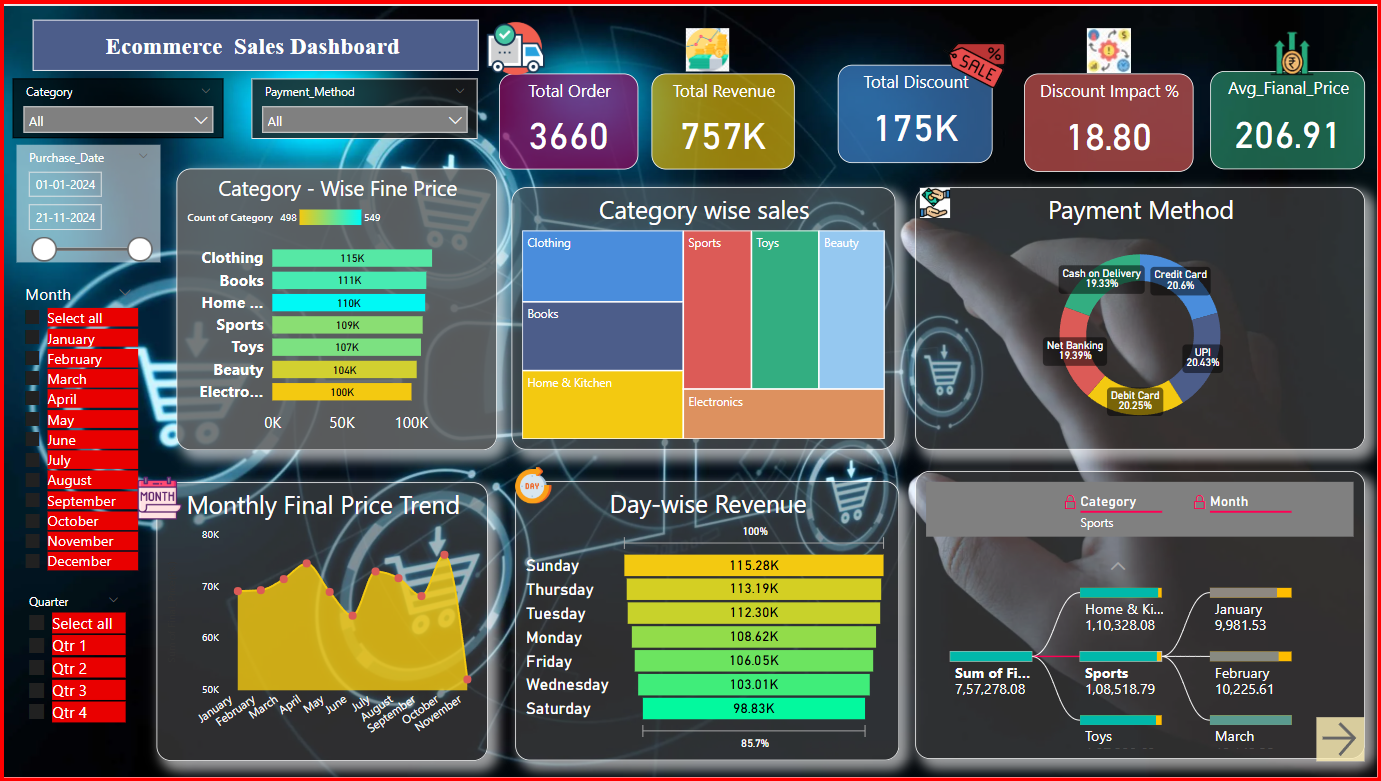

This screenshot's page, from the dashboard's own definition file:
{"tool":"powerbi","page":{"name":"Final Dashboard","canvas":[1422,797],"ordinal":1},"visuals":[{"type":"card","title":"Total Order ","fields":{"Values":["ecommerce_dataset_updated1.Order Count"]},"box":[511.5,69.4,144.2,98.8],"z":0},{"type":"card","title":"Total Revenue","fields":{"Values":["ecommerce_dataset_updated1.Total Revenue"]},"box":[669.1,69.4,148.2,98.8],"z":1000},{"type":"card","title":"Avg_Fianal_Price","fields":{"Values":["ecommerce_dataset_updated1.Avg_Fianl_Price"]},"box":[1246,66.8,160.3,101.5],"z":2000},{"type":"clusteredBarChart","title":"Category - Wise Fine Price","fields":{"Category":["ecommerce_dataset_updated1.Category"],"Y":["Sum(ecommerce_dataset_updated1.Final_Price(Rs.))"]},"box":[157.6,187,332.5,271.1],"z":3000},{"type":"donutChart","title":"Payment Method","fields":{"Category":["ecommerce_dataset_updated1.Payment_Method"],"Y":["ecommerce_dataset_updated1.Total Revenue"]},"box":[941.5,187,464.7,271.1],"z":4000},{"type":"treemap","title":"Category wise sales","fields":{"Group":["ecommerce_dataset_updated1.Category"],"Values":["Sum(ecommerce_dataset_updated1.Final_Price(Rs.))"]},"box":[524.8,187,396.6,271.1],"z":5000},{"type":"lineChart","title":"Monthly Final Price Trend","fields":{"Y":["Sum(ecommerce_dataset_updated1.Final_Price(Rs.))"],"Category":["ecommerce_dataset_updated1.Purchase_Date.Variation.Date Hierarchy.Month"]},"box":[157.6,491.5,332.5,288.5],"z":6000},{"type":"funnel","title":" Day-wise Revenue","fields":{"Y":["Sum(ecommerce_dataset_updated1.Final_Price(Rs.))"],"Category":["ecommerce_dataset_updated1.Day Name"]},"box":[528.8,491.5,396.6,288.5],"z":7000},{"type":"decompositionTreeVisual","fields":{"ExplainBy":["ecommerce_dataset_updated1.Category","ecommerce_dataset_updated1.Purchase_Date.Variation.Date Hierarchy.Month"],"Analyze":["Sum(ecommerce_dataset_updated1.Final_Price(Rs.))"]},"box":[941.5,480.8,464.7,297.8],"z":8000},{"type":"slicer","fields":{"Values":["ecommerce_dataset_updated1.Payment_Method"]},"box":[256.4,74.8,233.7,62.8],"z":9000},{"type":"slicer","fields":{"Values":["ecommerce_dataset_updated1.Category"]},"box":[9.3,74.8,217.7,61.4],"z":10000},{"type":"slicer","fields":{"Values":["ecommerce_dataset_updated1.Purchase_Date.Variation.Date Hierarchy.Month"]},"box":[9.3,281.8,134.9,320.5],"z":11000},{"type":"slicer","fields":{"Values":["ecommerce_dataset_updated1.Purchase_Date.Variation.Date Hierarchy.Quarter"]},"box":[13.4,602.3,117.5,157.6],"z":12000},{"type":"textbox","box":[29.4,14.7,398,53.4],"z":13000},{"type":"slicer","fields":{"Values":["ecommerce_dataset_updated1.Purchase_Date"]},"box":[9.3,146.9,148.2,120.2],"z":14000},{"type":"image","box":[491.5,9.3,76.1,69.4],"z":15000},{"type":"image","box":[685.1,18.7,85.5,54.8],"z":16000},{"type":"image","box":[510.1,470.1,73.5,49.4],"z":17000},{"type":"image","box":[130.9,480.8,60.1,56.1],"z":18000},{"type":"image","box":[941.7,178.3,41.3,50.4],"z":19000},{"type":"image","box":[1268.5,14.2,115,93],"z":20000},{"type":"card","title":"Discount Impact %","fields":{"Values":["ecommerce_dataset_updated1.Discount Impact %"]},"box":[1053.7,69.4,174.9,101.5],"z":21000},{"type":"image","box":[1089.7,18.7,102.8,56.1],"z":22000},{"type":"card","title":"Total Discount ","fields":{"Values":["ecommerce_dataset_updated1.Total Discount"]},"box":[861.4,60.1,160.3,101.5],"z":23000},{"type":"image","box":[962.9,18.7,81.5,77.5],"z":24000},{"type":"actionButton","box":[1356.8,734.5,49.4,45.4],"z":24002}]}

Visuals, with their boxes in screenshot pixels (x1, y1, x2, y2), scaled from the page's 1422x797 canvas onto the 1381x781 screenshot:
"Total Order " card: locate(497, 68, 637, 165)
"Total Revenue" card: locate(650, 68, 794, 165)
"Avg_Fianal_Price" card: locate(1210, 65, 1366, 165)
"Category - Wise Fine Price" clusteredBarChart: locate(153, 183, 476, 449)
"Payment Method" donutChart: locate(914, 183, 1366, 449)
"Category wise sales" treemap: locate(510, 183, 895, 449)
"Monthly Final Price Trend" lineChart: locate(153, 482, 476, 764)
" Day-wise Revenue" funnel: locate(514, 482, 899, 764)
decompositionTreeVisual - ecommerce_dataset_updated1.Category x ecommerce_dataset_updated1.Purchase_Date.Variation.Date Hierarchy.Month: locate(914, 471, 1366, 763)
slicer - ecommerce_dataset_updated1.Payment_Method: locate(249, 73, 476, 135)
slicer - ecommerce_dataset_updated1.Category: locate(9, 73, 220, 133)
slicer - ecommerce_dataset_updated1.Purchase_Date.Variation.Date Hierarchy.Month: locate(9, 276, 140, 590)
slicer - ecommerce_dataset_updated1.Purchase_Date.Variation.Date Hierarchy.Quarter: locate(13, 590, 127, 745)
textbox: locate(29, 14, 415, 67)
slicer - ecommerce_dataset_updated1.Purchase_Date: locate(9, 144, 153, 262)
image: locate(477, 9, 551, 77)
image: locate(665, 18, 748, 72)
image: locate(495, 461, 567, 509)
image: locate(127, 471, 185, 526)
image: locate(915, 175, 955, 224)
image: locate(1232, 14, 1344, 105)
"Discount Impact %" card: locate(1023, 68, 1193, 167)
image: locate(1058, 18, 1158, 73)
"Total Discount " card: locate(837, 59, 992, 158)
image: locate(935, 18, 1014, 94)
actionButton: locate(1318, 720, 1366, 764)
